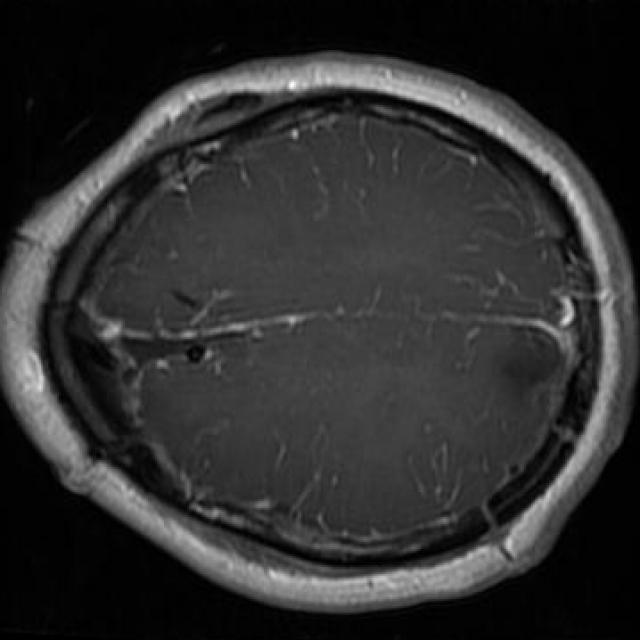glioma: (497, 328, 565, 399)
